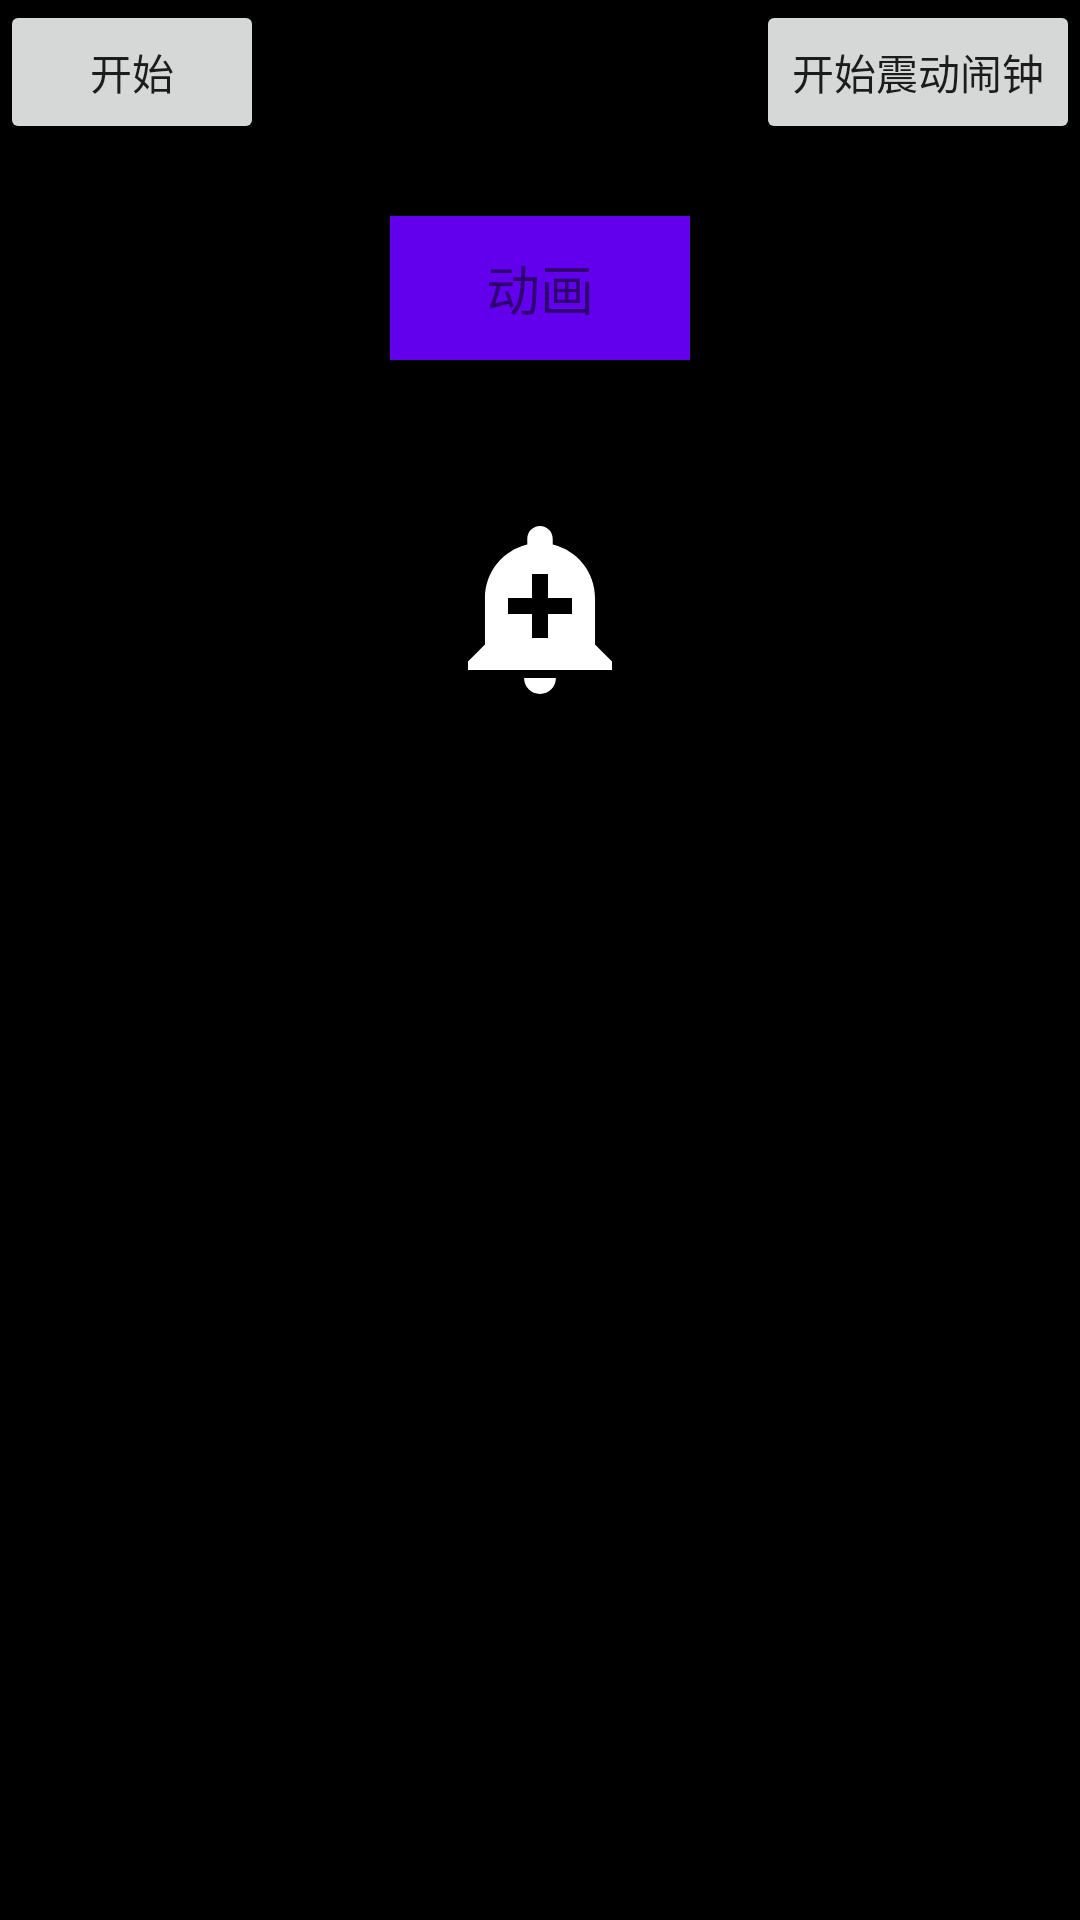

Where to tap for icons on this 1080 x 1920 app screen, as [x,y]:
alert: [540,610]
